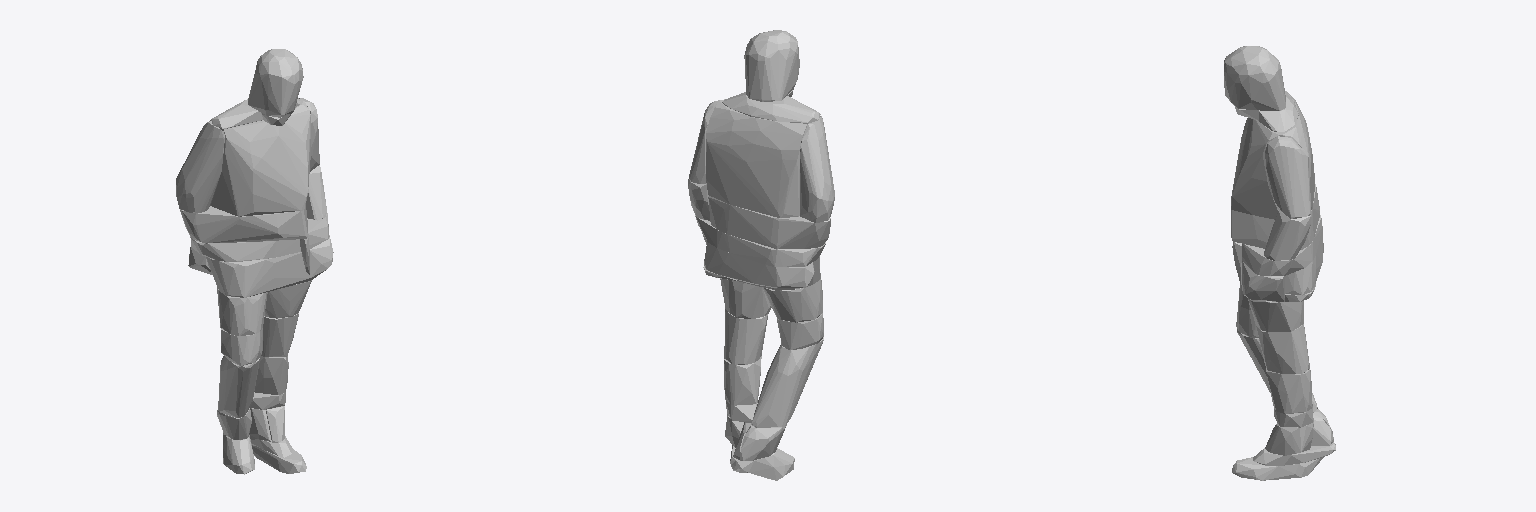
The model's file is person_vhacd.obj.
3 renders of one model, left to right at view 1: azimuth 30°, elevation 25°; view 2: azimuth 150°, elevation 25°; view 3: azimuth 270°, elevation 25°, orthographic.
Visible parts, largest first — view 1: convex_23, convex_21, convex_18, convex_22, convex_0, convex_17, convex_3, convex_12, convex_5, convex_4, convex_13, convex_11 (+8 smaller); view 2: convex_23, convex_18, convex_0, convex_3, convex_22, convex_24, convex_17, convex_5, convex_12, convex_15, convex_13, convex_11 (+5 smaller); view 3: convex_23, convex_0, convex_20, convex_5, convex_11, convex_18, convex_17, convex_19, convex_13, convex_6, convex_9, convex_21 (+4 smaller).
Boxes of the visible parts, x1,y1,x2,y2 form: convex_23: [210, 98, 310, 216]; convex_21: [206, 235, 333, 297]; convex_18: [180, 205, 307, 243]; convex_22: [176, 121, 224, 212]; convex_0: [248, 49, 303, 117]; convex_17: [190, 213, 329, 261]; convex_3: [218, 356, 260, 417]; convex_12: [217, 287, 267, 335]; convex_5: [261, 313, 298, 356]; convex_4: [221, 328, 262, 365]; convex_13: [265, 280, 311, 318]; convex_11: [254, 356, 288, 394]; convex_23: [706, 99, 820, 217]; convex_18: [708, 196, 830, 248]; convex_0: [744, 30, 799, 101]; convex_3: [751, 337, 823, 427]; convex_22: [800, 116, 834, 222]; convex_24: [704, 242, 814, 287]; convex_17: [695, 215, 825, 266]; convex_5: [724, 309, 767, 364]; convex_12: [762, 279, 822, 322]; convex_15: [722, 92, 820, 123]; convex_13: [720, 279, 771, 318]; convex_11: [724, 356, 761, 405]; convex_23: [1231, 91, 1314, 219]; convex_0: [1224, 46, 1285, 110]; convex_20: [1265, 136, 1310, 218]; convex_5: [1256, 324, 1309, 373]; convex_11: [1266, 368, 1312, 413]; convex_18: [1231, 184, 1319, 249]; convex_17: [1242, 215, 1322, 275]; convex_19: [1264, 211, 1310, 260]; convex_13: [1248, 298, 1303, 331]; convex_6: [1232, 457, 1323, 480]; convex_9: [1265, 422, 1313, 455]; convex_21: [1242, 261, 1284, 301].
Bounding box in the file's own units: 0.6607 × 1.92 × 0.4646.